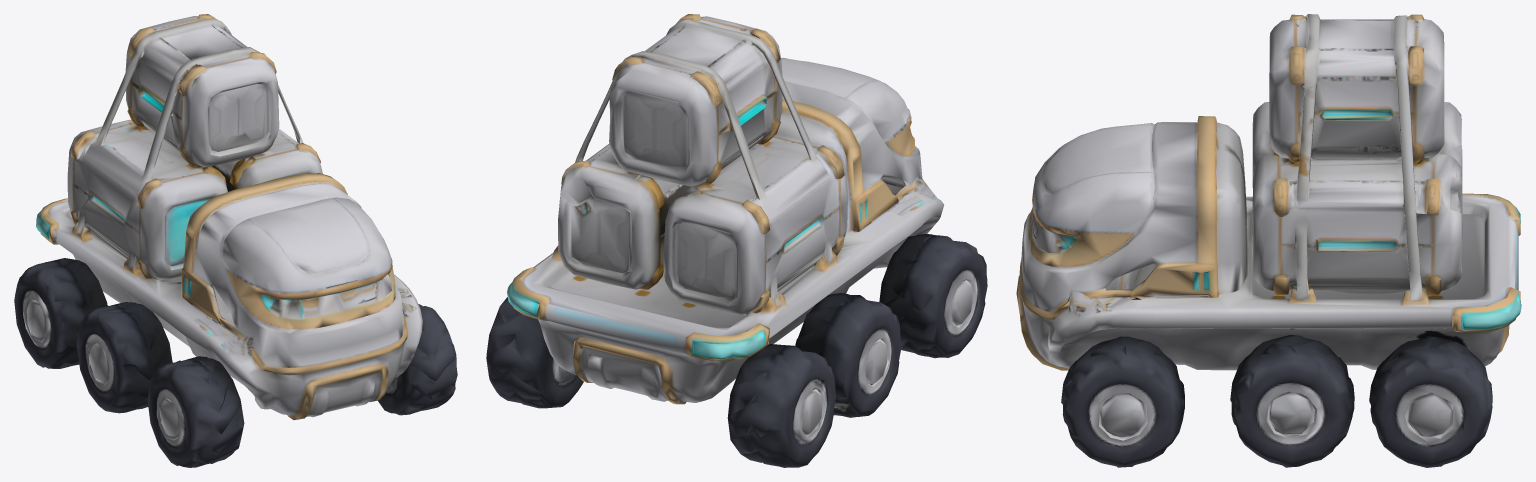
3 views of the same model, side by side, from view 1: azimuth 30°, elevation 25°; view 2: azimuth 150°, elevation 25°; view 3: azimuth 270°, elevation 25° (orthographic). The views are drawn at different scales.
Visible parts, largest first — view 1: repaired; view 2: repaired; view 3: repaired.
Boxes of the visible parts, <box> form: repaired: <box>14,14,457,467</box>; repaired: <box>486,14,987,467</box>; repaired: <box>1016,14,1521,467</box>.
Size of the model in its own units: 0.704 by 0.8066 by 0.9999.
1 material, 1 textured.
